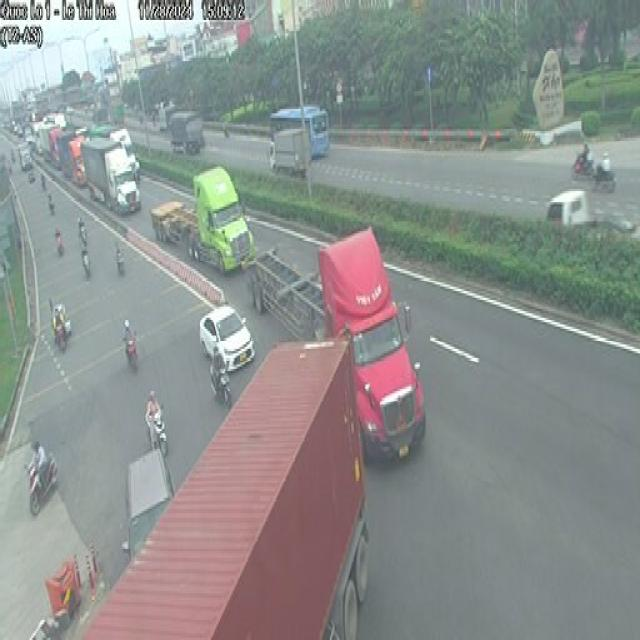container-truck: (77, 333, 374, 640), (244, 233, 431, 470), (147, 159, 260, 277)
